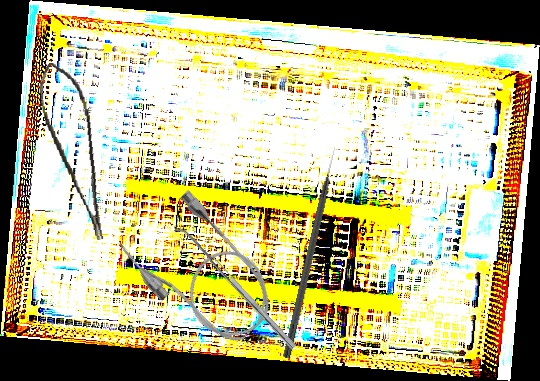Cannula: (112, 183, 289, 363)
Hook Surgical: (282, 146, 342, 360)
Micro Scissor: (33, 58, 110, 246)
Spatula Surgical: (172, 222, 297, 355)
